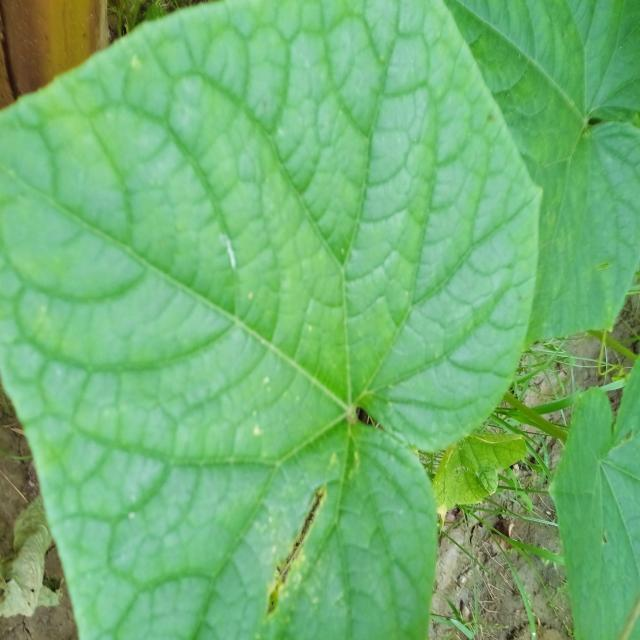cucumber_healthy: (3, 0, 548, 640), (437, 0, 640, 346), (548, 355, 640, 640)
